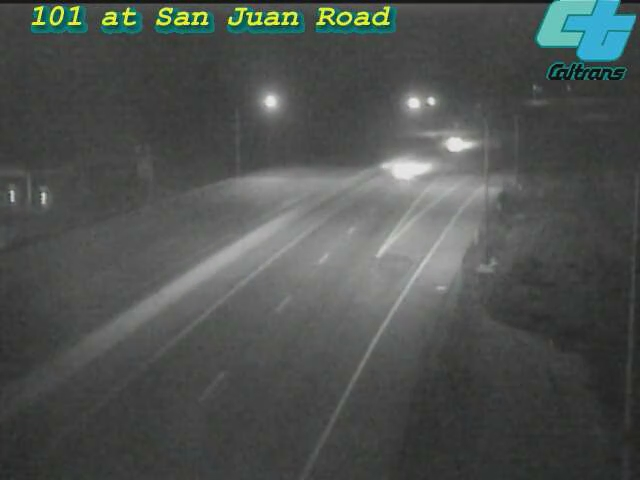vehicle: (360, 133, 440, 213), (430, 120, 480, 170)
